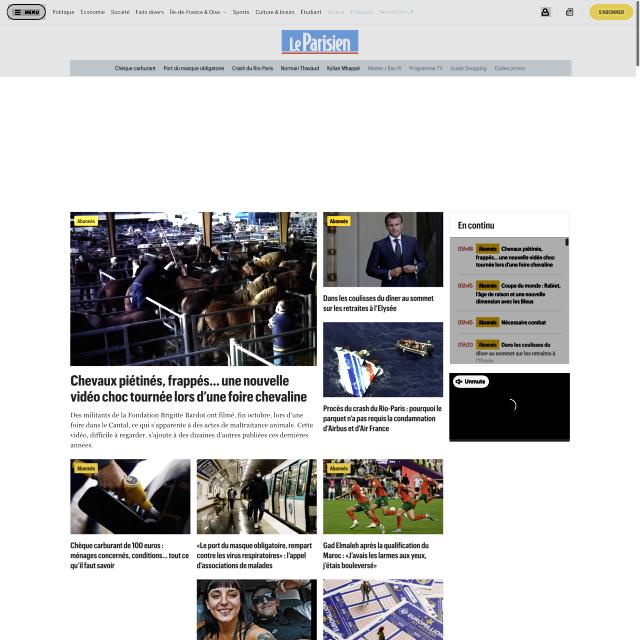CheckBox: (588, 4, 634, 20), (8, 4, 46, 20)
ImageView: (449, 374, 570, 442)
Input field: (70, 410, 312, 449)
QR code: (450, 237, 569, 364)
RadioButton: (328, 216, 351, 226), (74, 216, 98, 225)
alert: (168, 8, 228, 16)
bag: (0, 0, 636, 77)
carousel: (564, 7, 575, 17), (541, 7, 551, 17), (14, 9, 21, 15)
copy: (70, 212, 317, 366), (323, 321, 443, 397)
data feed: (598, 8, 625, 16)
date picker: (280, 28, 360, 56)
decoration: (69, 60, 572, 76), (50, 6, 417, 18), (12, 9, 40, 16)
image: (69, 373, 309, 404)
